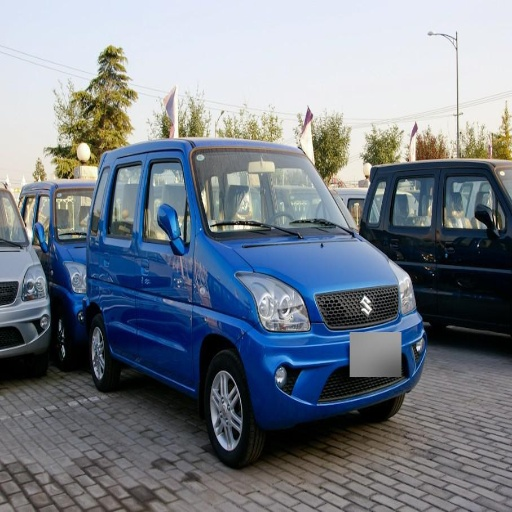front_bumper: (242, 286, 425, 428), (2, 304, 50, 354)
front_right_door: (139, 152, 190, 383)
front_right_light: (238, 273, 309, 333)
